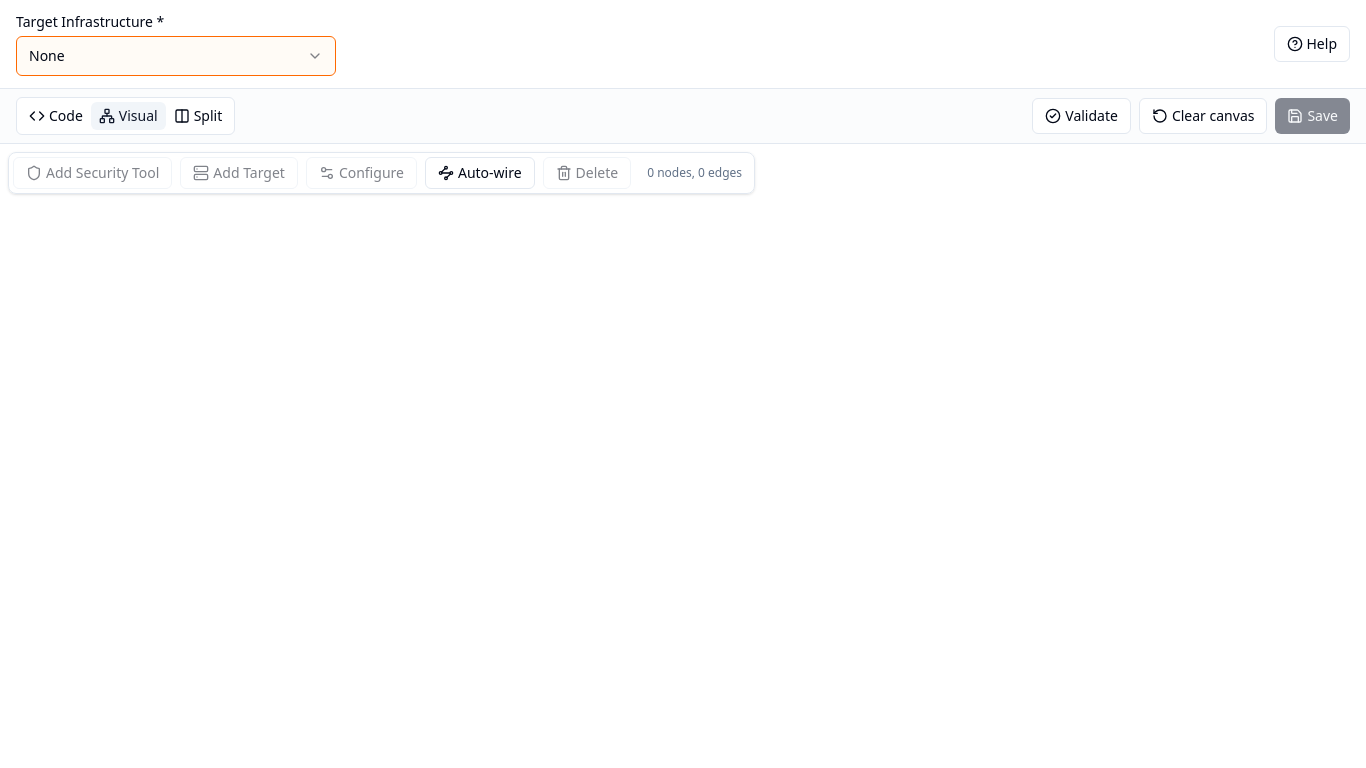
Test: TopologyEditor › shows the clear canvas dialog when clicking the button
Click the button "Clear canvas" at (1203, 116), box left=1139, top=98, right=1267, bottom=134
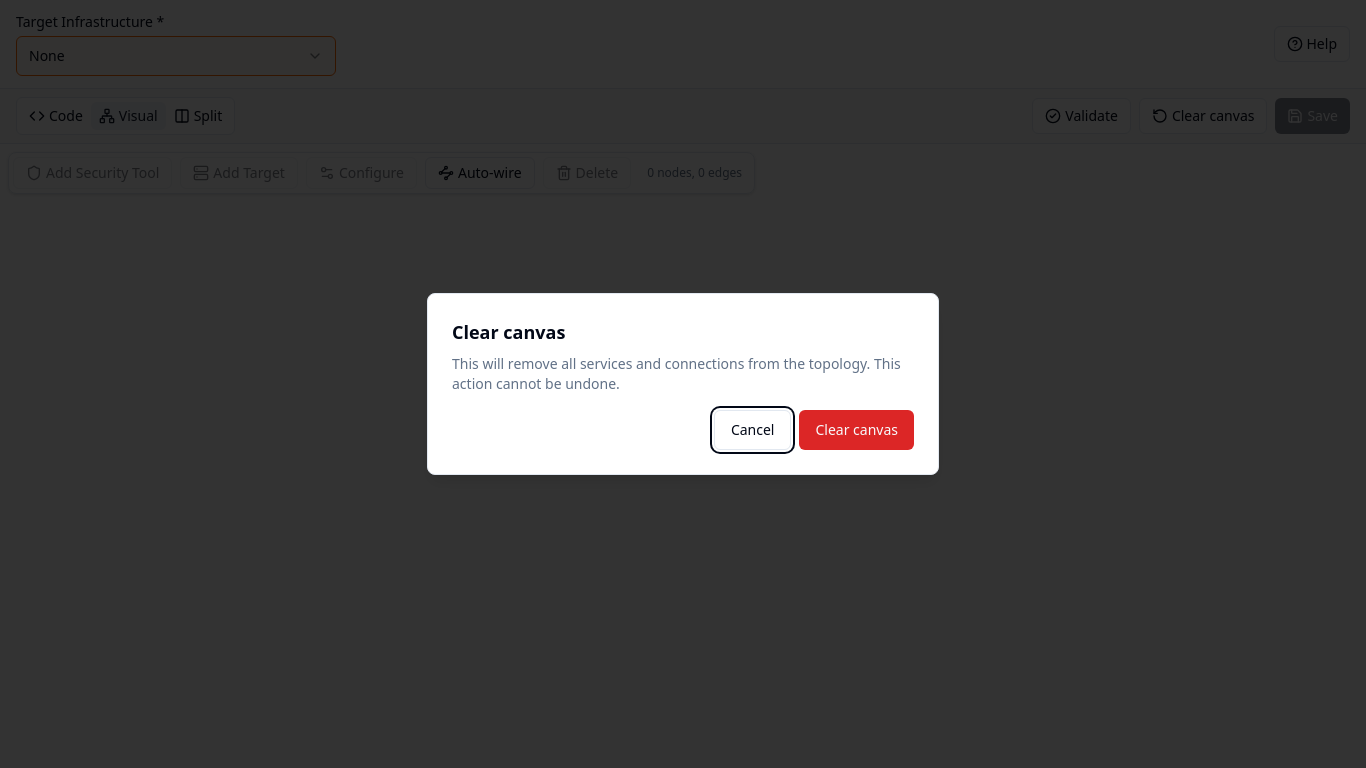
expect the text "This will remove all services and connections" is shown: met, box left=452, top=354, right=901, bottom=393
expect the button "Cancel" is shown: met, box left=714, top=410, right=792, bottom=450
expect the button "Clear canvas" is shown: met, box left=800, top=410, right=914, bottom=450
